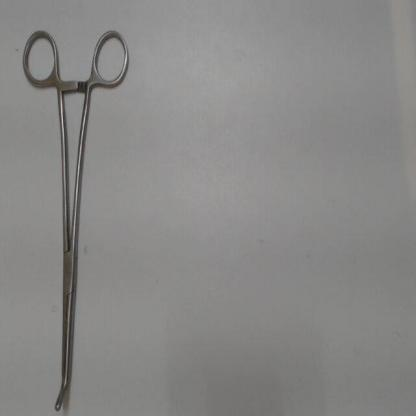Lahey Forceps: (14, 22, 135, 414)
